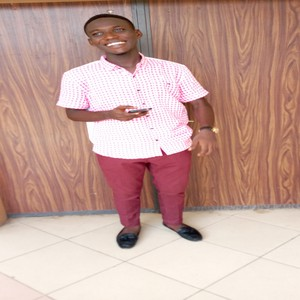Fulokoja_male_student: (78, 16, 196, 239)
